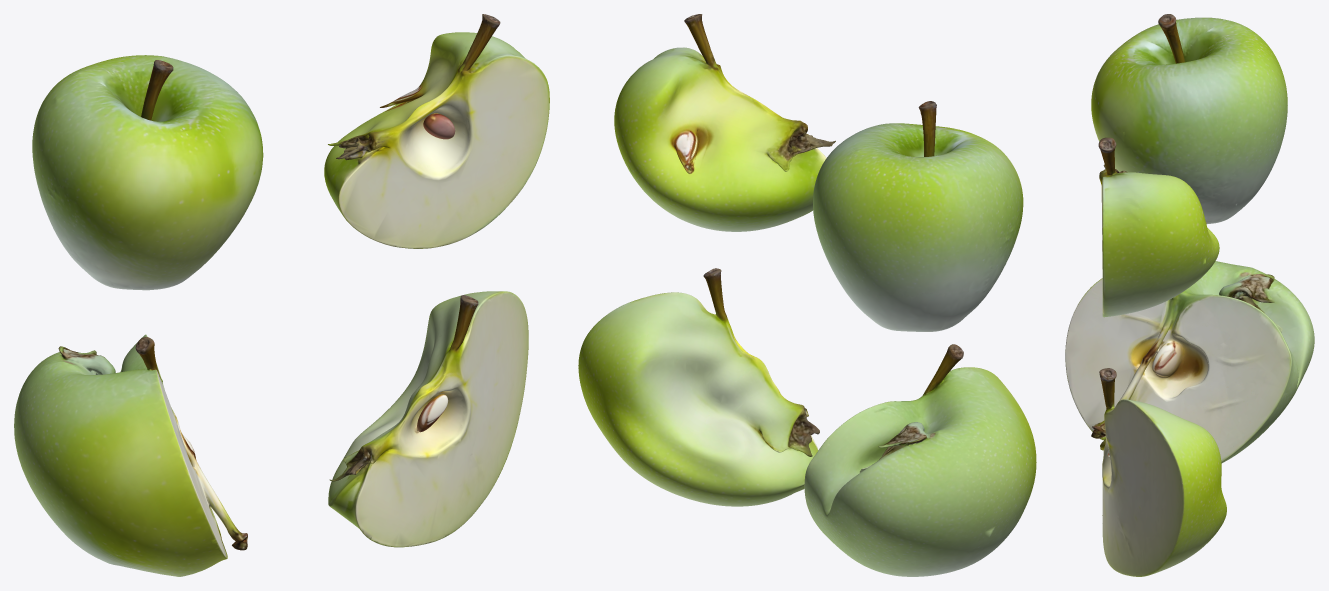
The model's file is apple-web.glb.
The picture shows the model from 3 angles, left to right: view 1: azimuth 30°, elevation 25°; view 2: azimuth 150°, elevation 25°; view 3: azimuth 270°, elevation 25°; orthographic projection. The views are drawn at different scales.
Visible parts, largest first — view 1: node_0; view 2: node_0; view 3: node_0.
Part boxes in pixels (bbox=[...]): node_0: bbox=[14, 14, 549, 576]; node_0: bbox=[578, 14, 1036, 576]; node_0: bbox=[1065, 14, 1314, 576].
Size of the model in its own units: 0.9624 by 0.9623 by 0.4889.
1 material, 1 textured.
